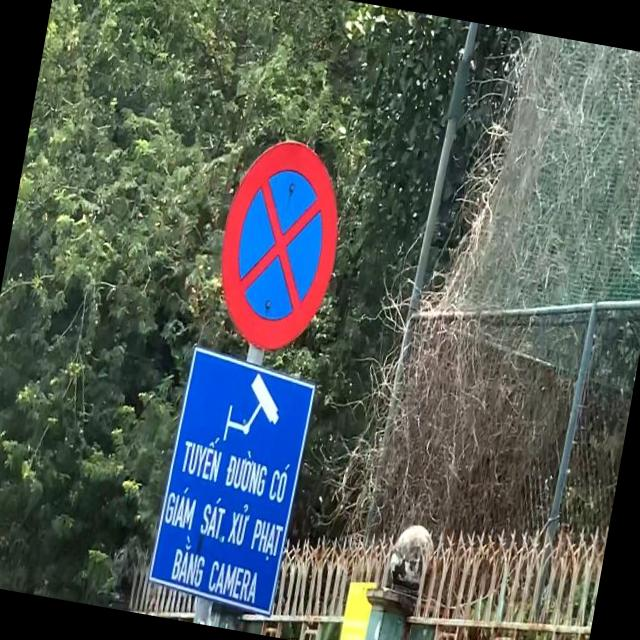P-130: (205, 130, 353, 360)
